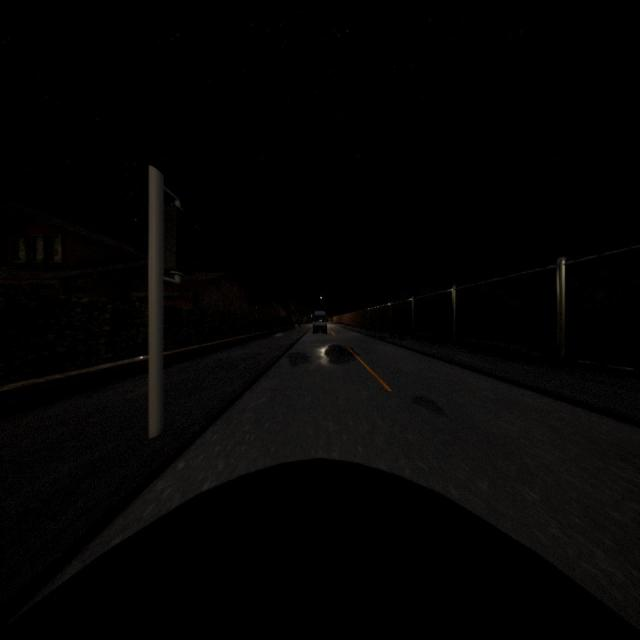Vehicle: (0, 460, 640, 640), (313, 311, 327, 333)
traffic_light: (162, 194, 184, 282)
